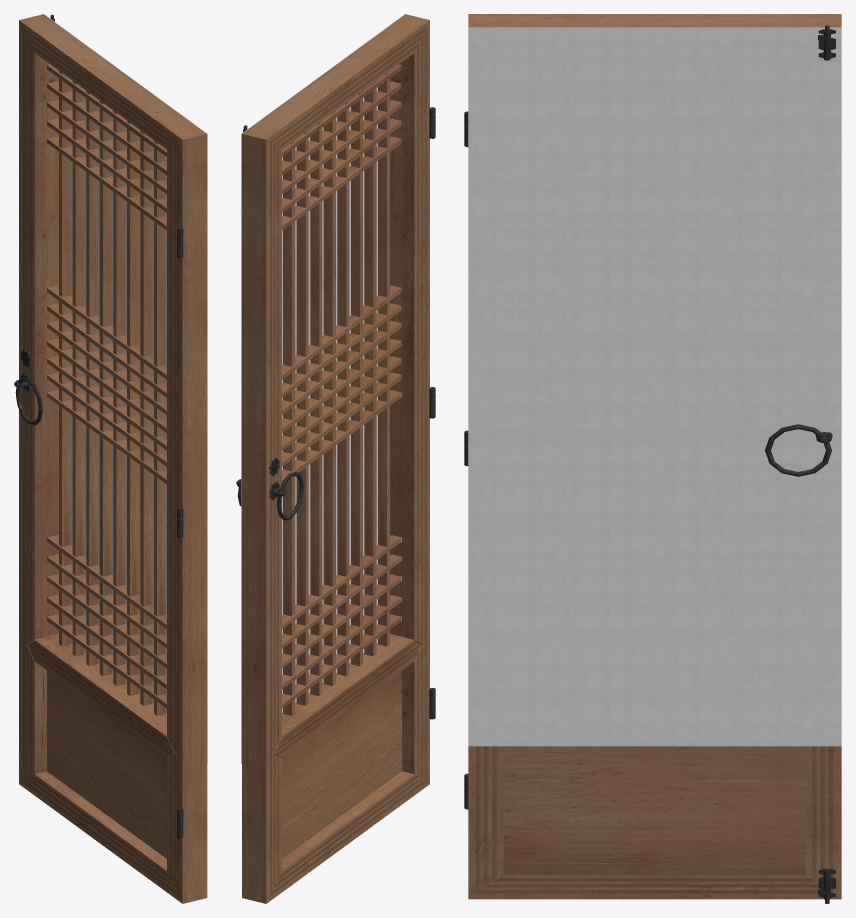
The model's file is SM_JSH_WindowE.fbx.
3 renders of one model, left to right at view 1: azimuth 30°, elevation 25°; view 2: azimuth 150°, elevation 25°; view 3: azimuth 270°, elevation 25°, orthographic. The views are drawn at different scales.
Parts seen in each view (by area): view 1: SM_JSH_WindowE; view 2: SM_JSH_WindowE; view 3: SM_JSH_WindowE.
Part boxes in pixels (x1,y1,x2,y2): SM_JSH_WindowE: [14, 14, 207, 903]; SM_JSH_WindowE: [236, 14, 435, 903]; SM_JSH_WindowE: [464, 14, 841, 903].
Size of the model in its own units: 11.06 by 66.84 by 172.
Materials: 1 (1 with a texture image).
